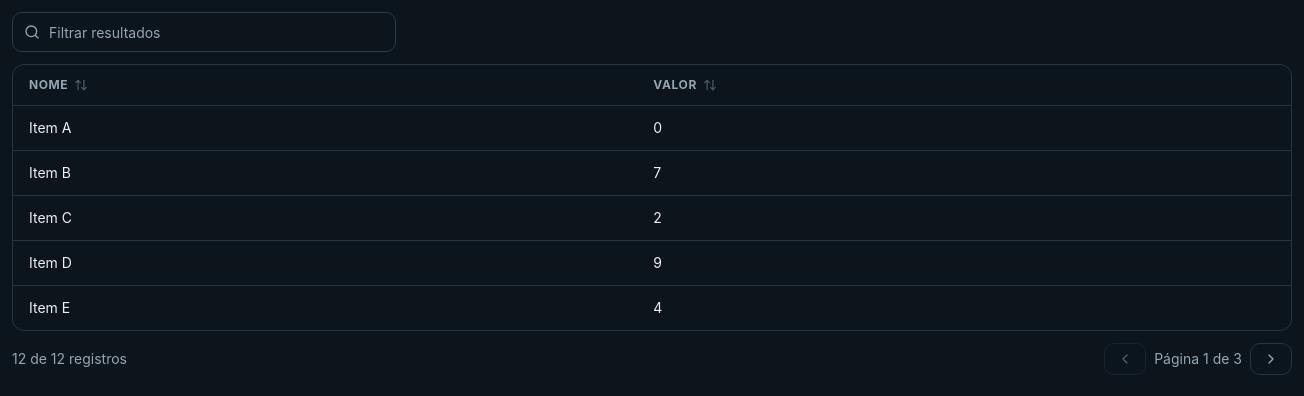
Test: DataTable › pagina conforme o tamanho de página
Check: the text "Página 1 de 3" is shown, box [1154,348,1242,368]
Click the button named "Próxima página".
click(1271, 358)  # box [1250,342,1292,374]
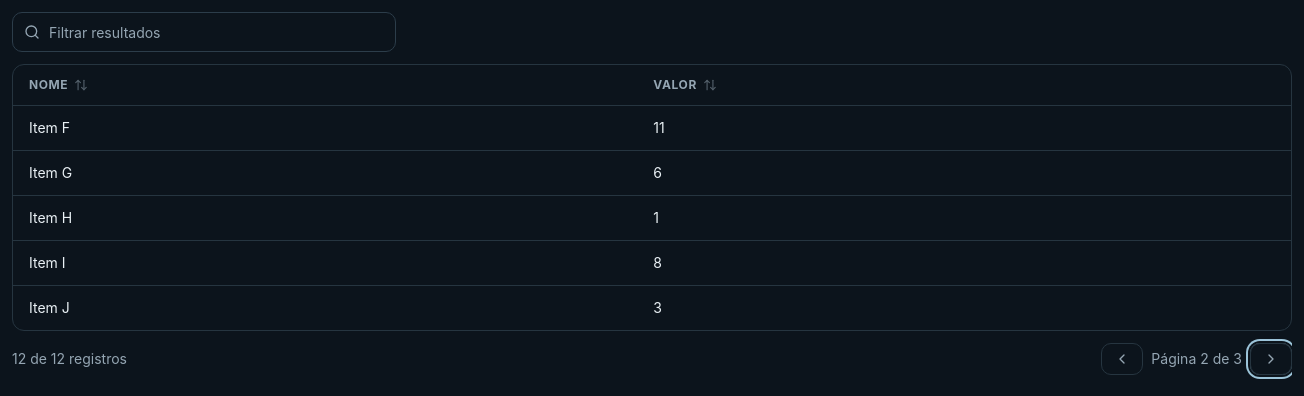
Check: the text "Página 2 de 3" is shown, box [1151,348,1242,368]
